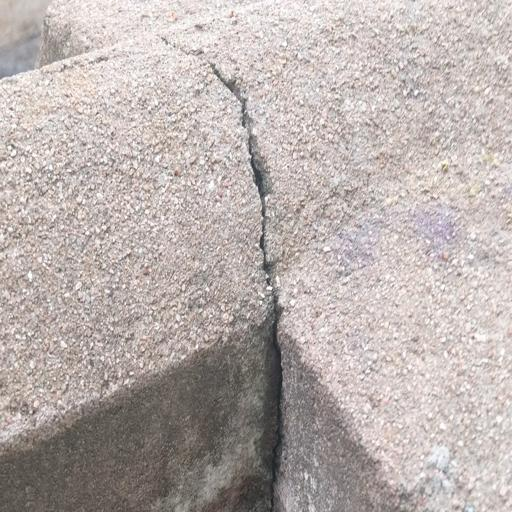major_crack: (150, 27, 303, 511)
